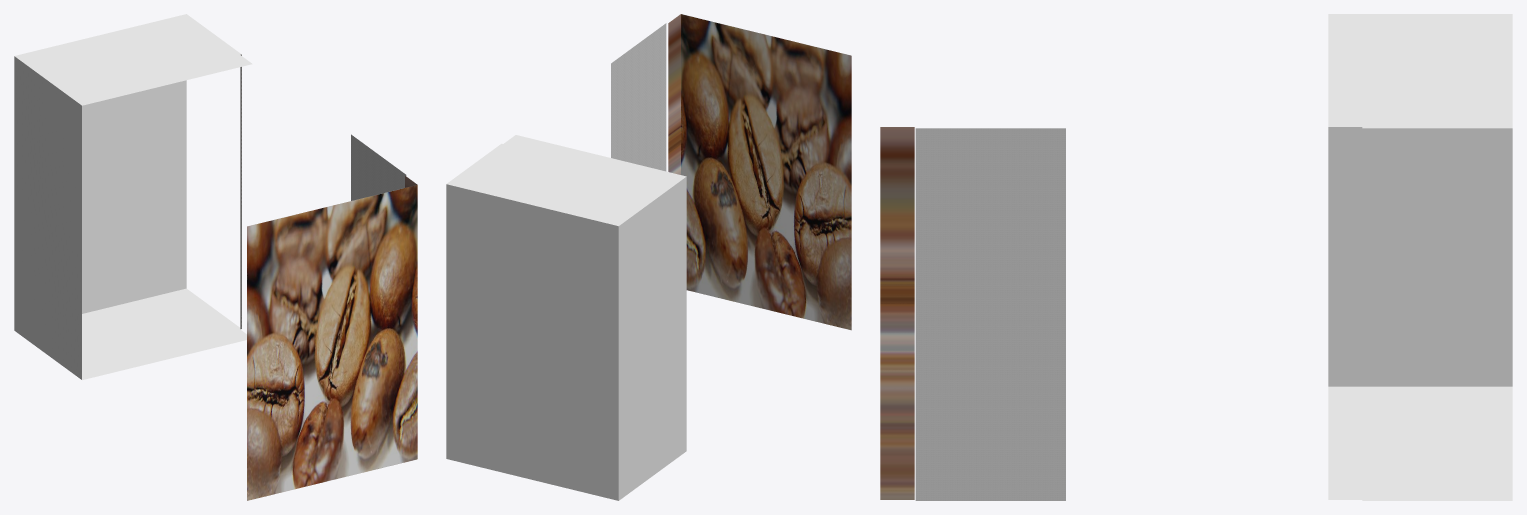
File: wall.glb
3 views of the same model, side by side, from view 1: azimuth 30°, elevation 25°; view 2: azimuth 150°, elevation 25°; view 3: azimuth 270°, elevation 25° (orthographic). The views are drawn at different scales.
Visible parts, largest first — view 1: SketchUp, SketchUp.003, SketchUp.001, SketchUp.002; view 2: SketchUp, SketchUp.003, SketchUp.001; view 3: SketchUp, SketchUp.001, SketchUp.003.
Part boxes in pixels (box(x1,y1,x2,y2)): SketchUp: box(14, 14, 252, 380); SketchUp.003: box(247, 176, 417, 500); SketchUp.001: box(351, 134, 406, 200); SketchUp.002: box(240, 54, 241, 329); SketchUp: box(446, 135, 686, 500); SketchUp.003: box(668, 14, 851, 330); SketchUp.001: box(611, 23, 666, 171); SketchUp: box(1328, 14, 1512, 500); SketchUp.001: box(915, 128, 1065, 500); SketchUp.003: box(880, 127, 914, 499).
Size of the model in its own units: 104 by 158 by 243.
4 materials, 3 textured.
